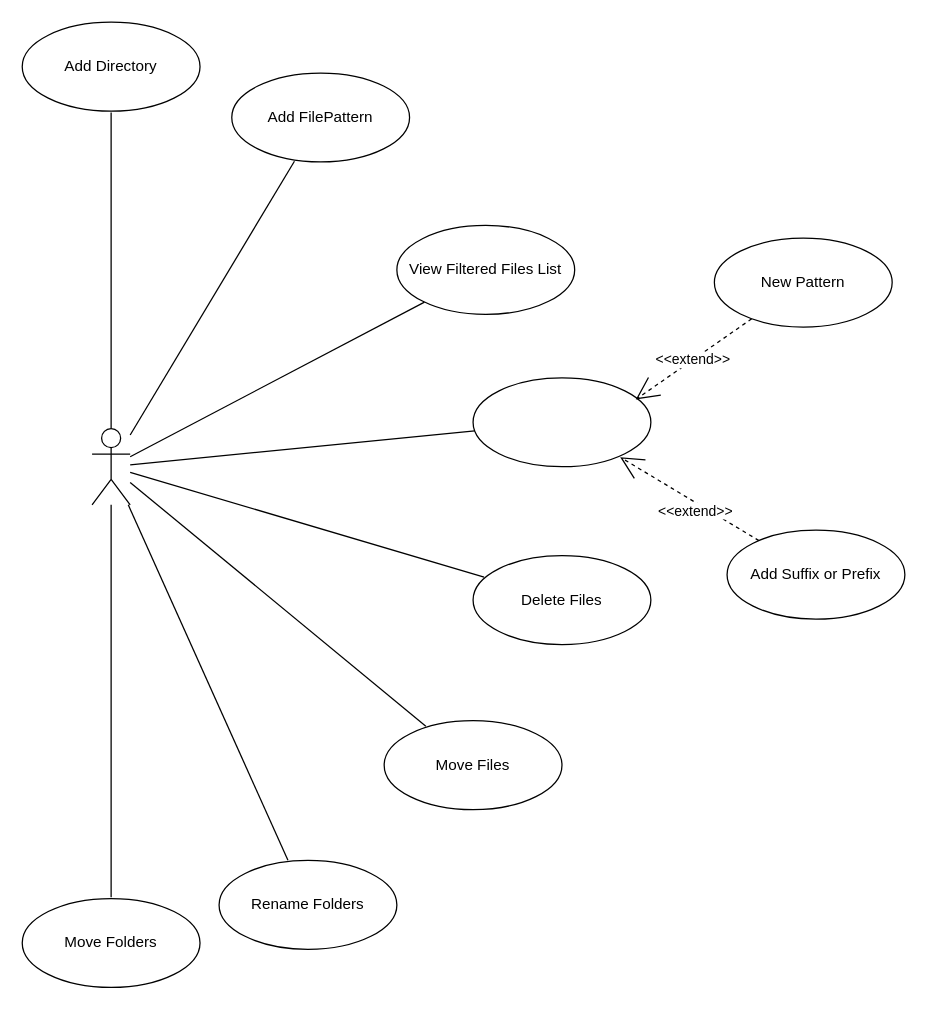
Some shapes in this 927 by 1010 pixel diagram are drawn without their labels. Each missing label, with the centre of its shape:
"Rename Files" goes at (561,422).
"User" goes at (110,466).
